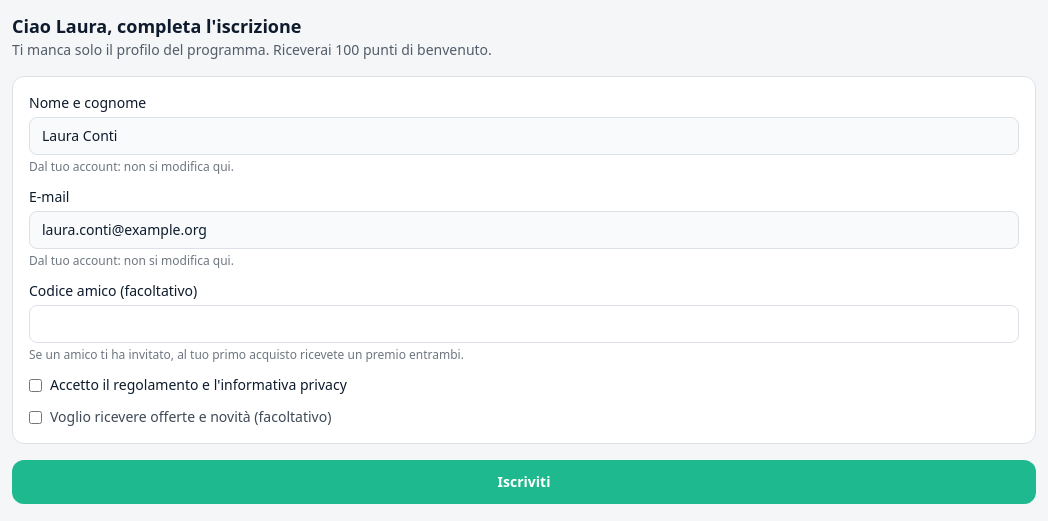
Test case: PT-16 registrazione in enterprise › codice amico non valido dal servizio: errore sul campo, si resta sul modulo
The image size is (1048, 521).
Click the checkbox labelled "Accetto il regolamento e l'informativa privacy".
click(36, 386)  # box [29,379,42,392]
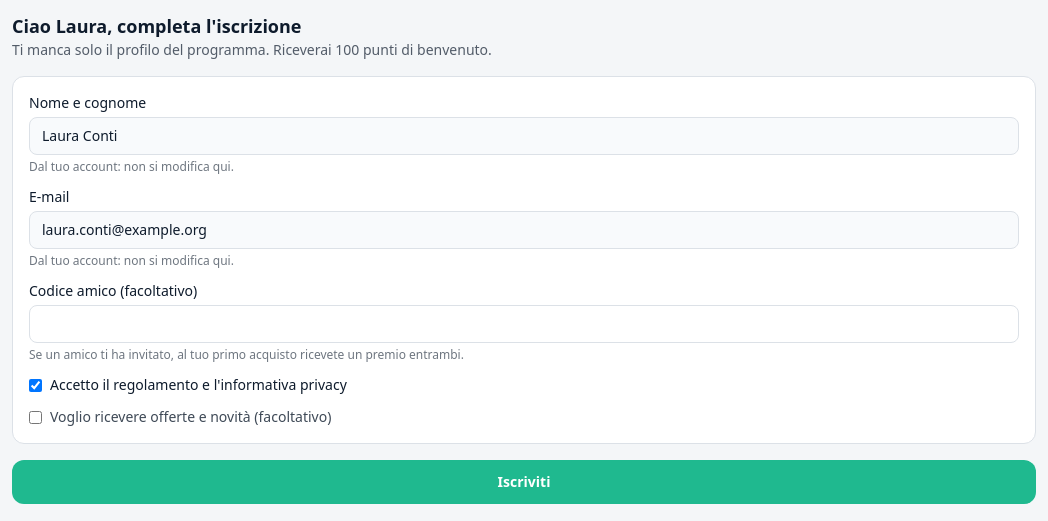
Click the button "Iscriviti".
click(524, 482)  # box [12,460,1036,504]
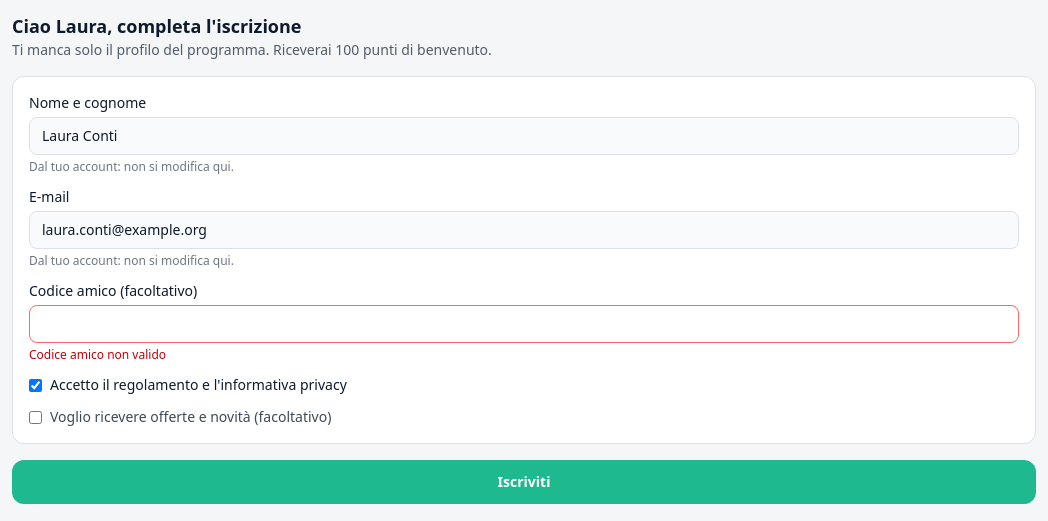
Result: the text "Codice amico non valido" is shown at [29,346,166,363]
